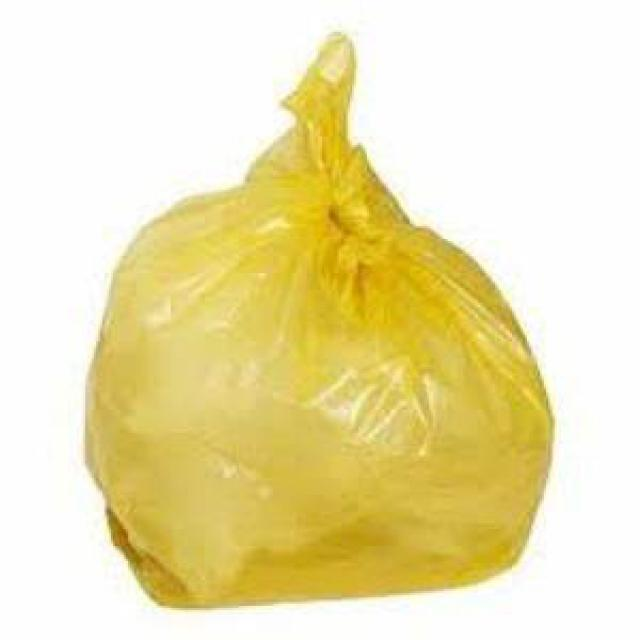waste: (93, 39, 546, 590)
